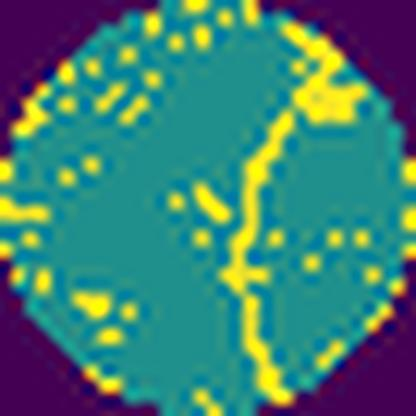Scratch: (211, 107, 306, 407)
